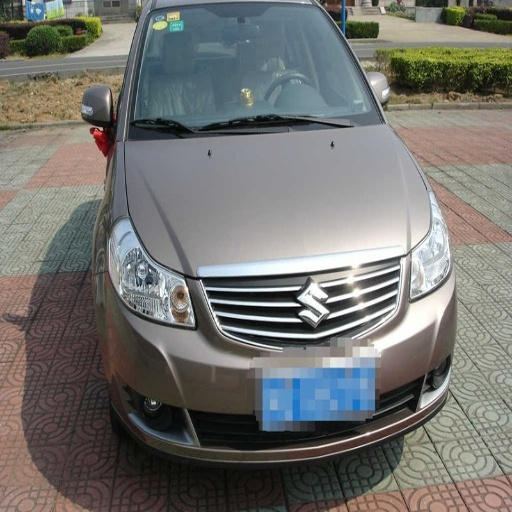front_bumper: (113, 253, 450, 464)
front_right_light: (109, 221, 195, 329)
hood: (122, 124, 432, 318)
